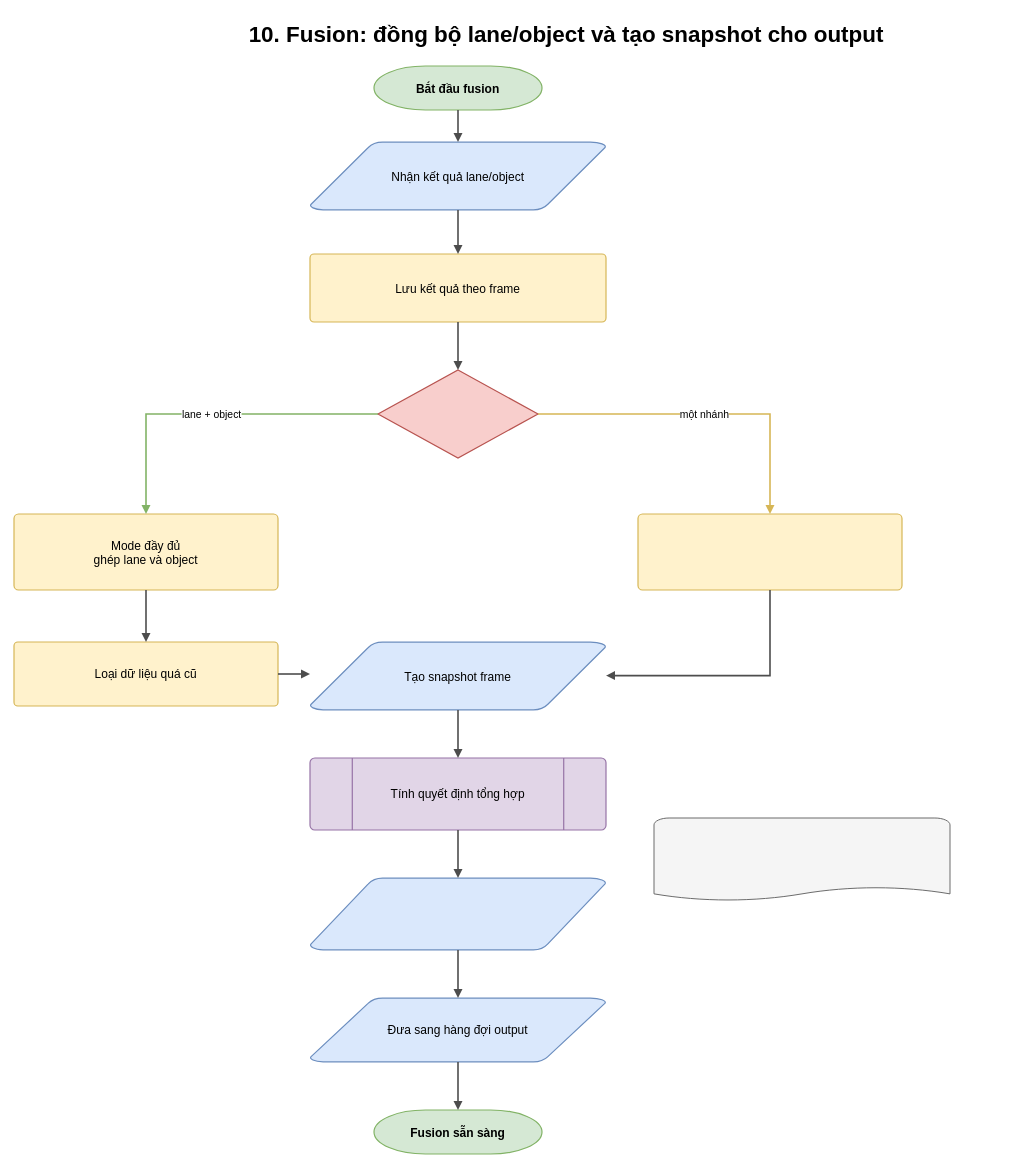
This 1028x1168 diagram has some shape labels left out. The shapes that lost their labels are listed below. From the top down, each one's centre as x and y in pixels, then its label:
pixel 457 413: Runtime cần nhánh nào?
pixel 769 551: Mode một nhánh không chờ nhánh tắt
pixel 801 859: Behavior packet hiện đóng vai trò snapshot của world/fusion cho output.
pixel 457 913: Xuất behavior packet
